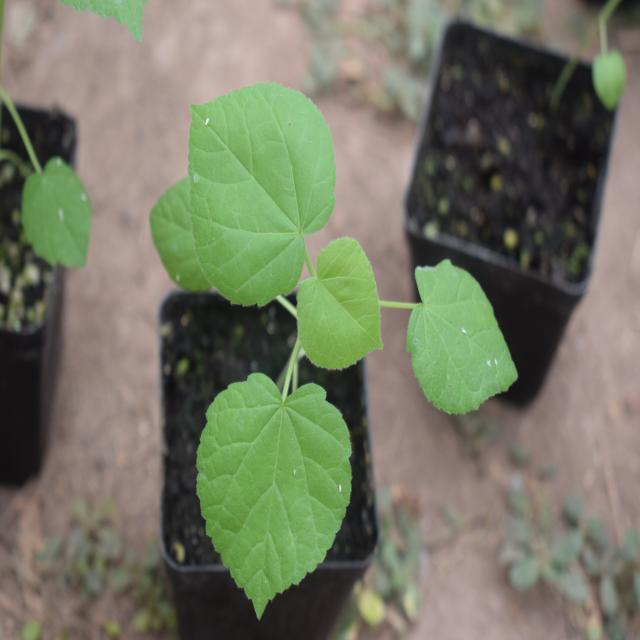abutilon theophrasti: (123, 91, 514, 596)
